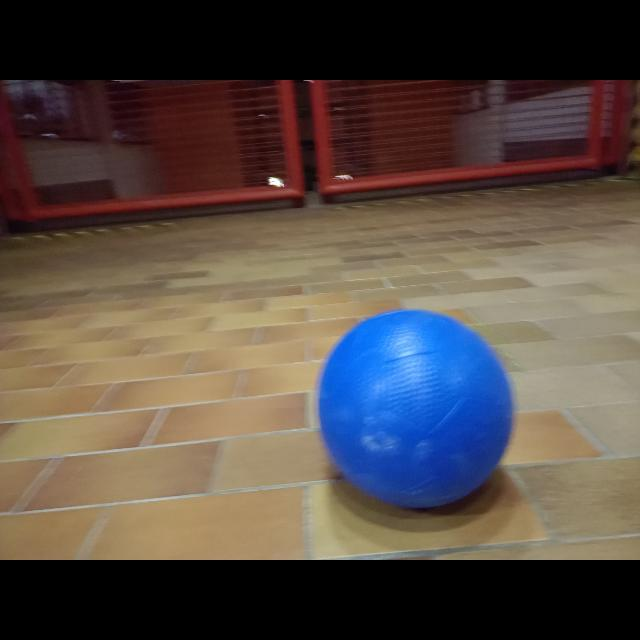B: (308, 306, 526, 520)
